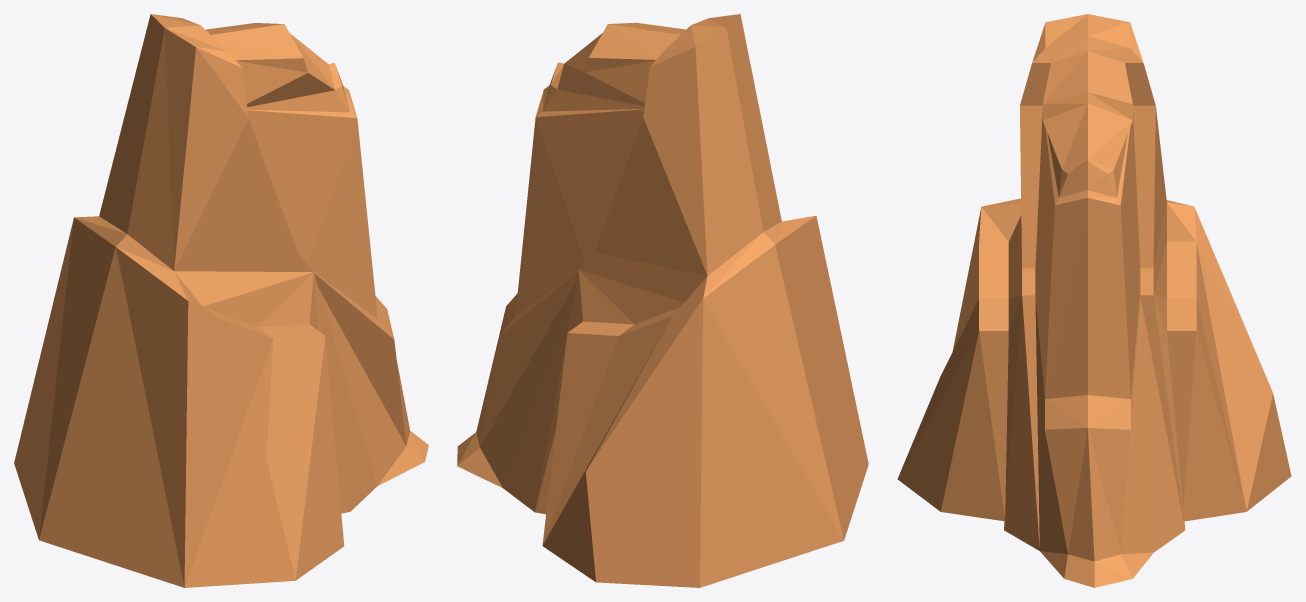
File: Rock_Large_Canyon_Eroded_14.FBX
The picture shows the model from 3 angles, left to right: view 1: azimuth 30°, elevation 25°; view 2: azimuth 150°, elevation 25°; view 3: azimuth 270°, elevation 25°; orthographic projection. The views are drawn at different scales.
Visible parts, largest first — view 1: Rock_Large_Canyon_Eroded_14; view 2: Rock_Large_Canyon_Eroded_14; view 3: Rock_Large_Canyon_Eroded_14.
Part boxes in pixels (x1,y1,x2,y2): Rock_Large_Canyon_Eroded_14: (14, 14, 428, 587); Rock_Large_Canyon_Eroded_14: (457, 14, 868, 587); Rock_Large_Canyon_Eroded_14: (897, 14, 1291, 587).
Bounding box in the file's own units: 12895 × 15329 × 12108.
